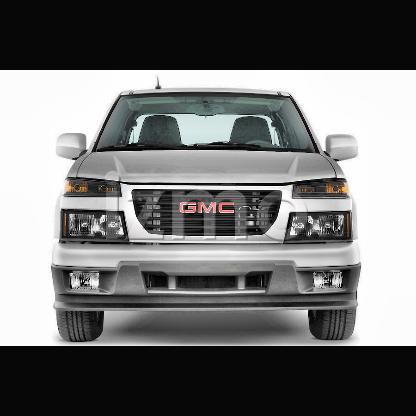GMC Canyon Extended Cab 2012: (50, 75, 365, 345)
